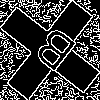B: (25, 25, 79, 82)
